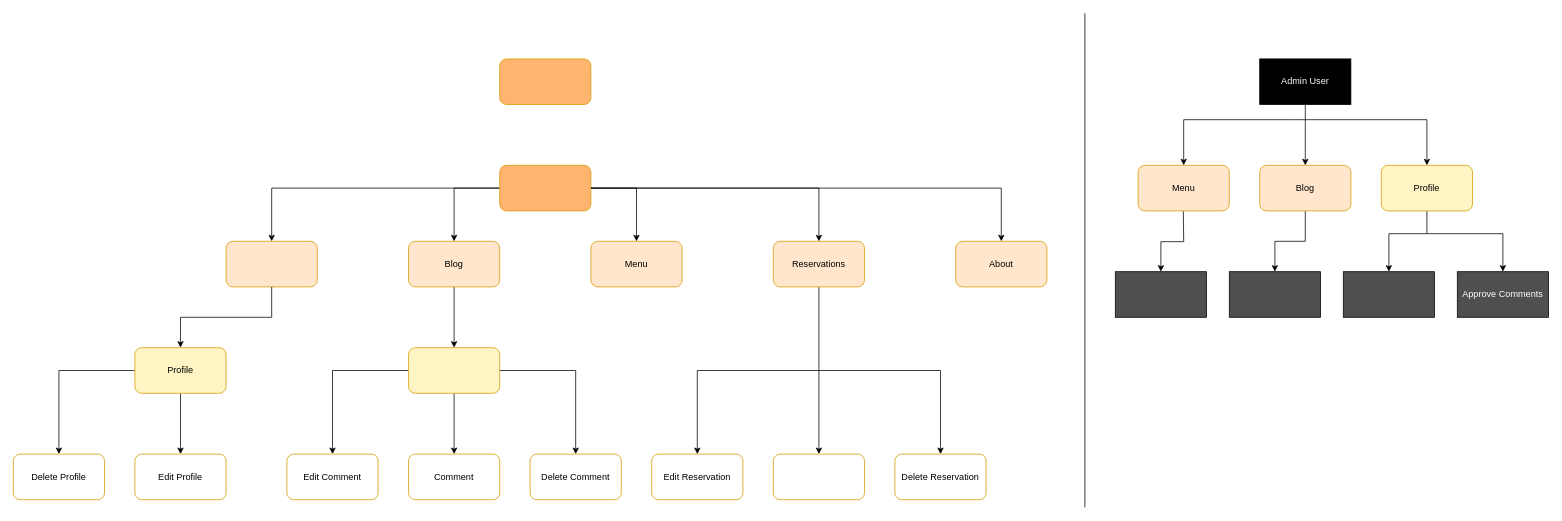
Image size: 1562x521. Some labels were removed from this diagram. The centre of each missing label's shape, as x and y in pixels:
A Taste of Lisbon: (545,81)
Blog Post: (454,370)
Create Post: (1274,294)
Create Reservation: (818,476)
Edit Menu: (1160,294)
Home Page: (545,188)
Login / Register: (271,264)
View Reservations: (1388,294)
